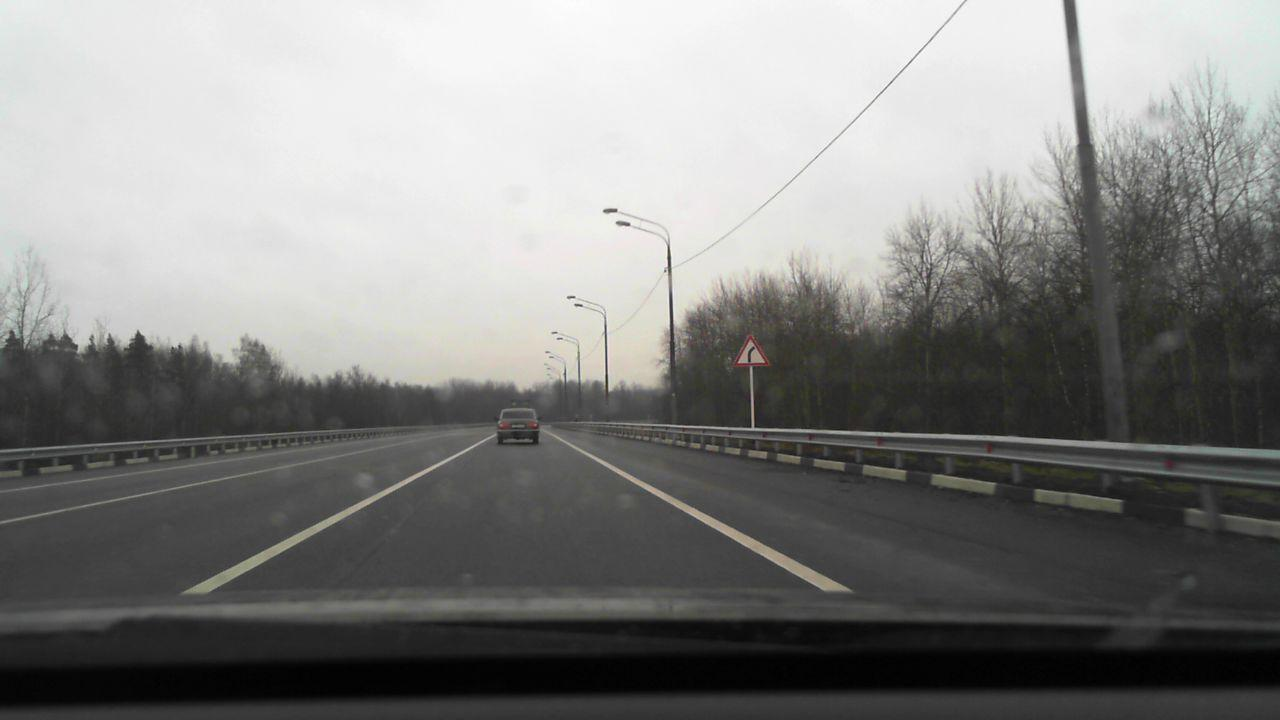1_11_1: (732, 334, 770, 366)
